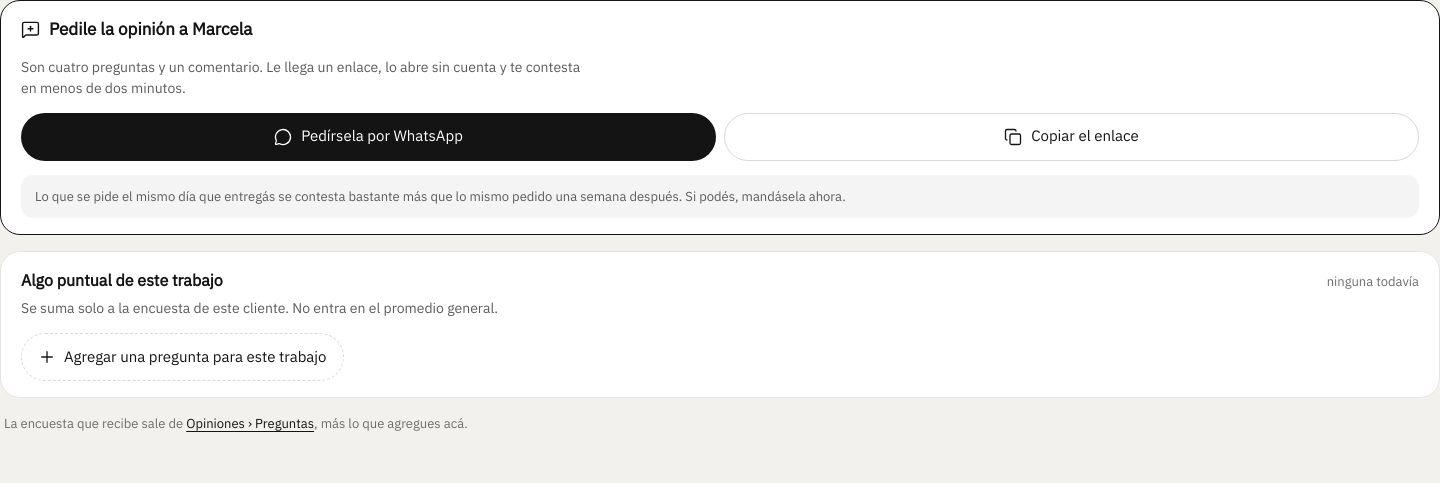
Test: pedir la opinión desde el trabajo terminado › sin señal no manda nada y dice por qué
The image size is (1440, 483).
Click the link "Pedírsela por WhatsApp" at (368, 136), box x1=21 y1=112 x2=716 y2=160
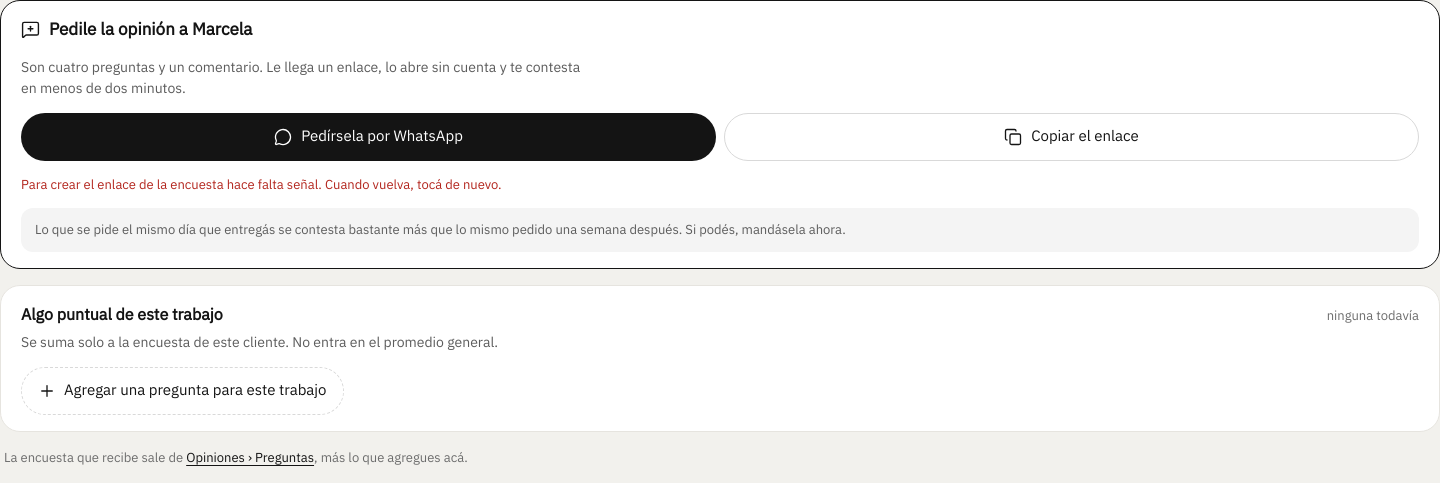
Now the message shows "Para crear el enlace de la encuesta hace falta señal.", box x1=21 y1=176 x2=502 y2=192
